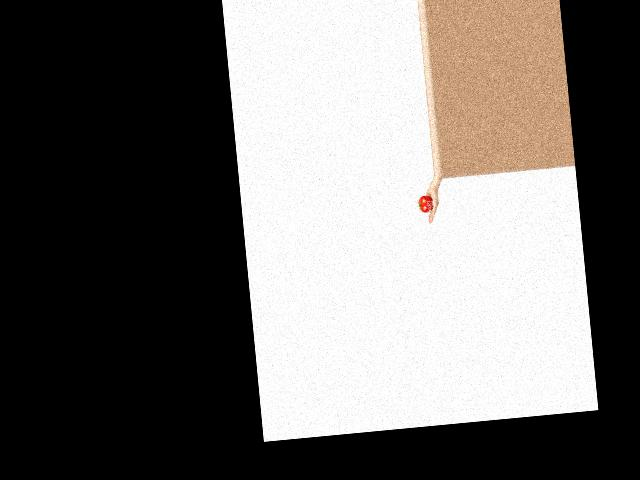tomato: (418, 195, 433, 213)
